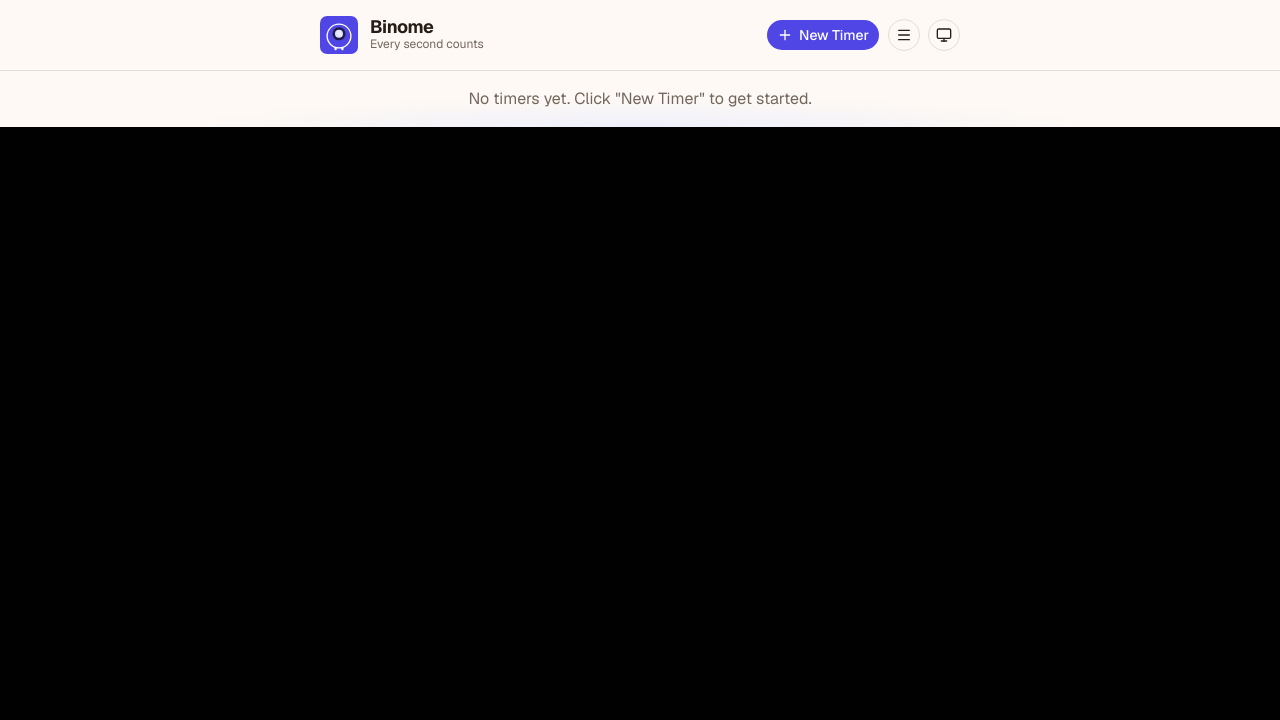
Scenario: TimerList › new timer sheet › opens the create sheet when New Timer is clicked
The width and height of the screenshot is (1280, 720).
Click the button "New Timer": (823, 35) [766,19,880,51]
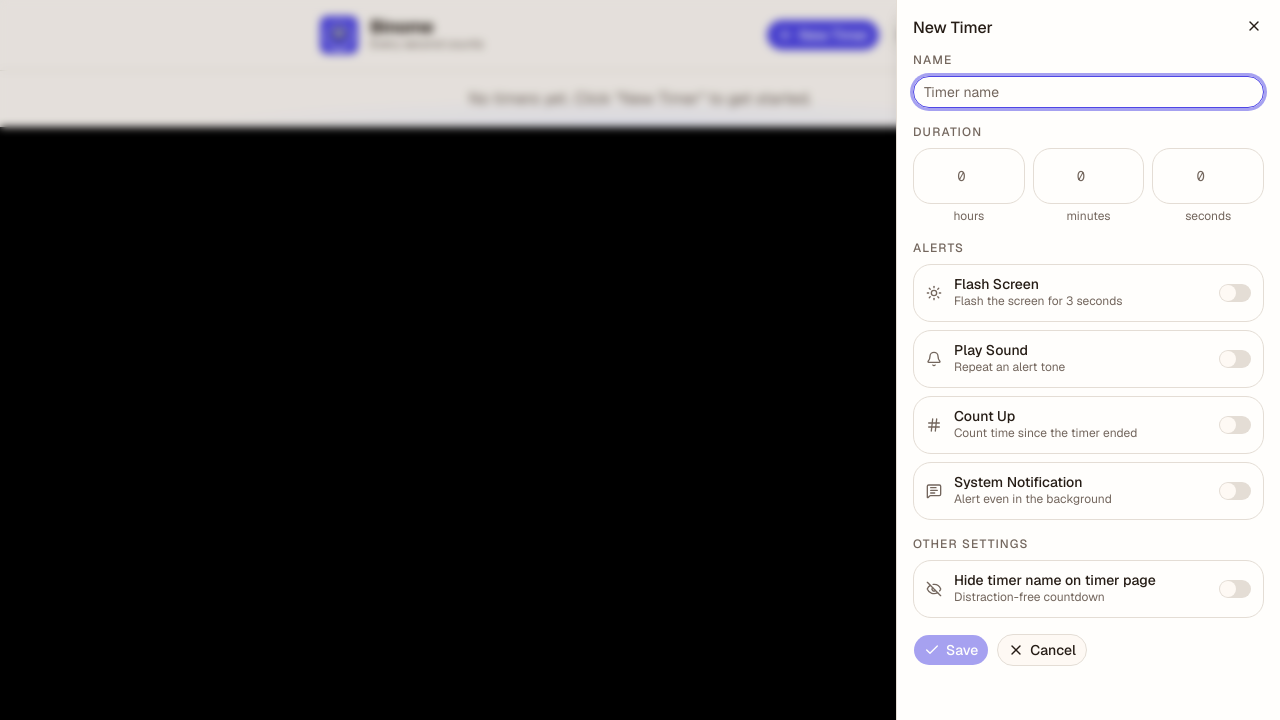
Check: the heading "New Timer" is shown, box [913,17,993,38]
